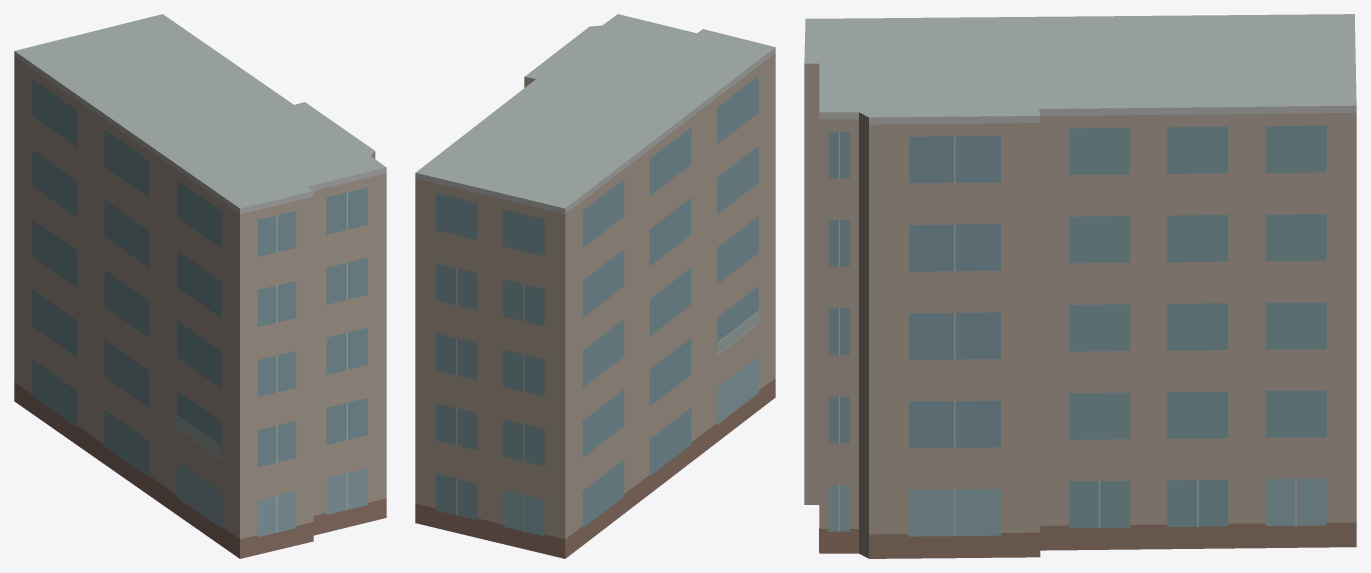
The model's file is survey-upis-33024916.glb.
The picture shows the model from 3 angles, left to right: view 1: azimuth 30°, elevation 25°; view 2: azimuth 150°, elevation 25°; view 3: azimuth 270°, elevation 25°; orthographic projection. The views are drawn at different scales.
Parts seen in each view (by area): view 1: survey-upis-33024916.tmp; view 2: survey-upis-33024916.tmp; view 3: survey-upis-33024916.tmp.
Boxes of the visible parts, <box> form: survey-upis-33024916.tmp: <box>14,14,386,558</box>; survey-upis-33024916.tmp: <box>415,14,775,558</box>; survey-upis-33024916.tmp: <box>804,14,1356,558</box>.
Size of the model in its own units: 7.68 by 15.25 by 17.31.
